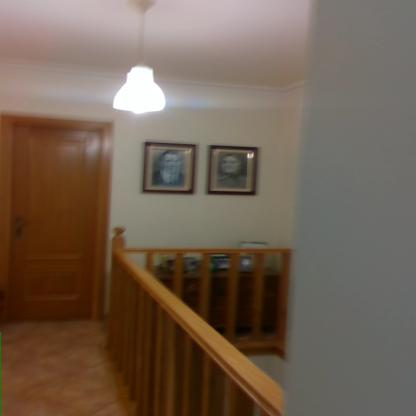closed: (0, 104, 117, 334)
